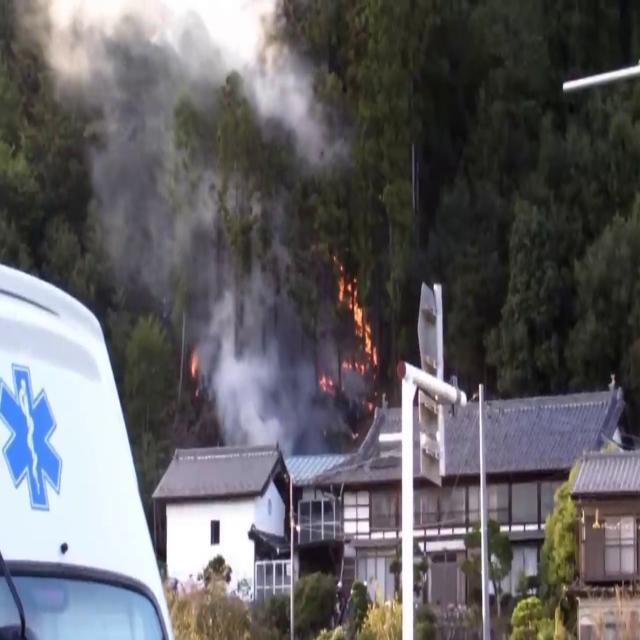Fire: (336, 268, 380, 382)
Smoke: (4, 0, 346, 298), (188, 257, 347, 462)
